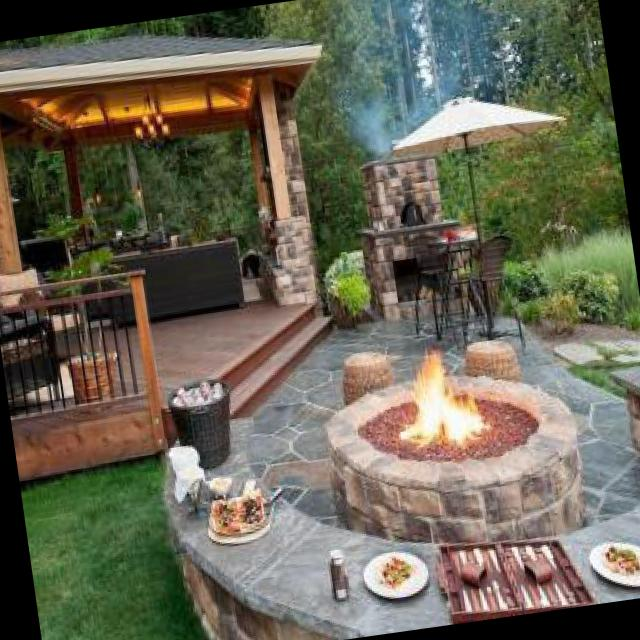Fire: (410, 344, 480, 451)
